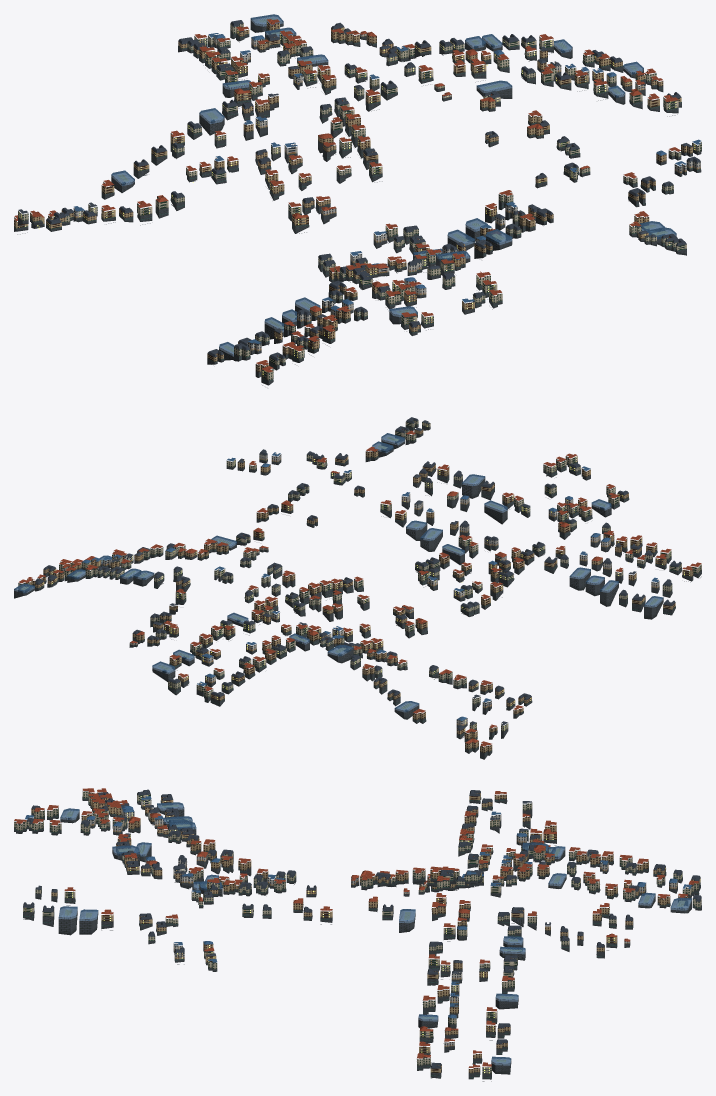
The model's file is osm_buildings_T_W02_S01_Q1.glb.
The picture shows the model from 3 angles, top to bottom: view 1: azimuth 30°, elevation 25°; view 2: azimuth 150°, elevation 25°; view 3: azimuth 270°, elevation 25°; orthographic projection. The views are drawn at different scales.
Parts seen in each view (by area): view 1: OSM_T_W02_S01_Q1_foundation, OSM_T_W02_S01_Q1_wall_french_ochre, OSM_T_W02_S01_Q1_wall_cream_stucco, OSM_T_W02_S01_Q1_roof_terracotta, OSM_T_W02_S01_Q1_roof_mansard_slate, OSM_T_W02_S01_Q1_greenhouse_blend, OSM_T_W02_S01_Q1_roof_mansard_deck, OSM_T_W02_S01_Q1_roof_mint_metal, OSM_T_W02_S01_Q1_trim_cornice, OSM_T_W02_S01_Q1_wall_pastel_sand, OSM_T_W02_S01_Q1_roof_alpine_blue, OSM_T_W02_S01_Q1_balcony_railing (+2 smaller); view 2: OSM_T_W02_S01_Q1_foundation, OSM_T_W02_S01_Q1_wall_french_ochre, OSM_T_W02_S01_Q1_wall_cream_stucco, OSM_T_W02_S01_Q1_roof_terracotta, OSM_T_W02_S01_Q1_greenhouse_blend, OSM_T_W02_S01_Q1_roof_mansard_slate, OSM_T_W02_S01_Q1_roof_mansard_deck, OSM_T_W02_S01_Q1_roof_mint_metal, OSM_T_W02_S01_Q1_wall_pastel_sand, OSM_T_W02_S01_Q1_roof_alpine_blue, OSM_T_W02_S01_Q1_balcony_railing, OSM_T_W02_S01_Q1_window_emissive_warm (+2 smaller); view 3: OSM_T_W02_S01_Q1_foundation, OSM_T_W02_S01_Q1_wall_french_ochre, OSM_T_W02_S01_Q1_wall_cream_stucco, OSM_T_W02_S01_Q1_roof_terracotta, OSM_T_W02_S01_Q1_roof_mansard_slate, OSM_T_W02_S01_Q1_greenhouse_blend, OSM_T_W02_S01_Q1_roof_mansard_deck, OSM_T_W02_S01_Q1_trim_cornice, OSM_T_W02_S01_Q1_roof_alpine_blue, OSM_T_W02_S01_Q1_roof_mint_metal, OSM_T_W02_S01_Q1_wall_pastel_sand, OSM_T_W02_S01_Q1_balcony_railing (+2 smaller).
Part boxes in pixels (x1=…): OSM_T_W02_S01_Q1_foundation: x1=14, y1=20, x2=701, y2=385; OSM_T_W02_S01_Q1_wall_french_ochre: x1=14, y1=21, x2=692, y2=372; OSM_T_W02_S01_Q1_wall_cream_stucco: x1=18, y1=23, x2=701, y2=380; OSM_T_W02_S01_Q1_roof_terracotta: x1=14, y1=19, x2=680, y2=372; OSM_T_W02_S01_Q1_roof_mansard_slate: x1=18, y1=21, x2=700, y2=360; OSM_T_W02_S01_Q1_greenhouse_blend: x1=111, y1=14, x2=676, y2=356; OSM_T_W02_S01_Q1_roof_mansard_deck: x1=48, y1=20, x2=698, y2=357; OSM_T_W02_S01_Q1_roof_mint_metal: x1=14, y1=28, x2=700, y2=383; OSM_T_W02_S01_Q1_trim_cornice: x1=14, y1=23, x2=701, y2=385; OSM_T_W02_S01_Q1_wall_pastel_sand: x1=240, y1=37, x2=589, y2=351; OSM_T_W02_S01_Q1_roof_alpine_blue: x1=74, y1=33, x2=701, y2=343; OSM_T_W02_S01_Q1_balcony_railing: x1=18, y1=23, x2=686, y2=377; OSM_T_W02_S01_Q1_foundation: x1=14, y1=424, x2=701, y2=759; OSM_T_W02_S01_Q1_wall_french_ochre: x1=26, y1=429, x2=693, y2=752; OSM_T_W02_S01_Q1_wall_cream_stucco: x1=18, y1=420, x2=701, y2=731; OSM_T_W02_S01_Q1_roof_terracotta: x1=18, y1=429, x2=701, y2=746; OSM_T_W02_S01_Q1_greenhouse_blend: x1=14, y1=433, x2=663, y2=712; OSM_T_W02_S01_Q1_roof_mansard_slate: x1=35, y1=418, x2=681, y2=730; OSM_T_W02_S01_Q1_roof_mansard_deck: x1=22, y1=417, x2=680, y2=728; OSM_T_W02_S01_Q1_roof_mint_metal: x1=33, y1=424, x2=701, y2=757; OSM_T_W02_S01_Q1_wall_pastel_sand: x1=102, y1=497, x2=659, y2=663; OSM_T_W02_S01_Q1_roof_alpine_blue: x1=82, y1=452, x2=658, y2=720; OSM_T_W02_S01_Q1_balcony_railing: x1=20, y1=434, x2=701, y2=746; OSM_T_W02_S01_Q1_window_emissive_warm: x1=22, y1=437, x2=699, y2=730; OSM_T_W02_S01_Q1_foundation: x1=14, y1=797, x2=701, y2=1079; OSM_T_W02_S01_Q1_wall_french_ochre: x1=25, y1=792, x2=700, y2=1073; OSM_T_W02_S01_Q1_wall_cream_stucco: x1=14, y1=791, x2=701, y2=1073; OSM_T_W02_S01_Q1_roof_terracotta: x1=14, y1=788, x2=698, y2=1068; OSM_T_W02_S01_Q1_roof_mansard_slate: x1=23, y1=790, x2=701, y2=1068; OSM_T_W02_S01_Q1_greenhouse_blend: x1=58, y1=802, x2=691, y2=1065; OSM_T_W02_S01_Q1_roof_mansard_deck: x1=24, y1=789, x2=700, y2=1066; OSM_T_W02_S01_Q1_trim_cornice: x1=15, y1=791, x2=698, y2=1081; OSM_T_W02_S01_Q1_roof_alpine_blue: x1=25, y1=796, x2=691, y2=1018; OSM_T_W02_S01_Q1_roof_mint_metal: x1=14, y1=797, x2=700, y2=1077; OSM_T_W02_S01_Q1_wall_pastel_sand: x1=86, y1=799, x2=646, y2=1003; OSM_T_W02_S01_Q1_balcony_railing: x1=17, y1=790, x2=701, y2=1071.
Bounding box in the file's own units: 945 × 182 × 993.
16 materials, 16 textured.
